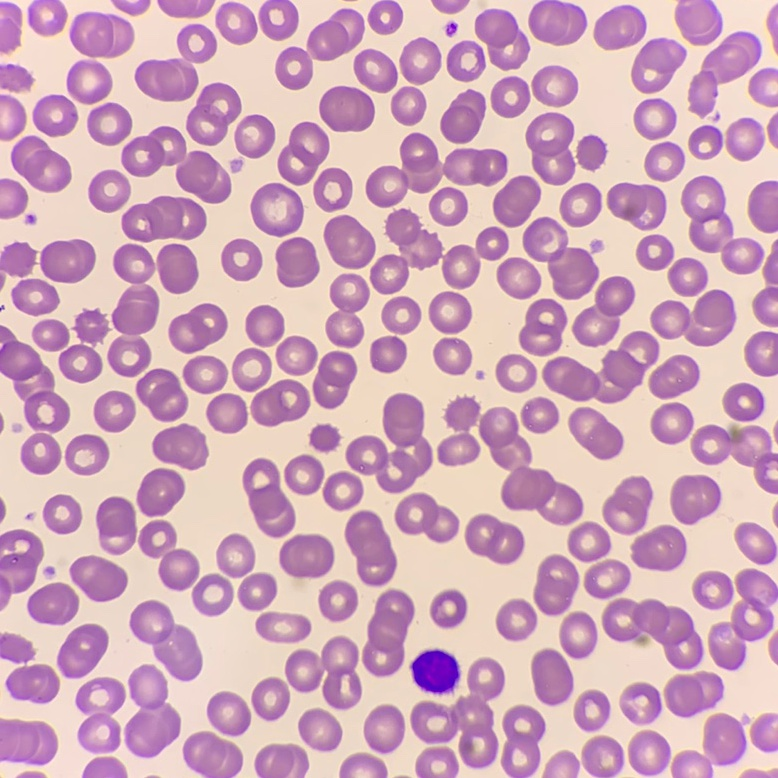RBC: (479, 407, 582, 524), (366, 133, 506, 206), (411, 658, 504, 767), (346, 393, 432, 492), (122, 126, 230, 202), (543, 331, 658, 402), (682, 176, 761, 273), (0, 327, 69, 431), (602, 599, 702, 669), (276, 9, 363, 89), (708, 569, 777, 669), (135, 24, 216, 101), (523, 217, 598, 299), (689, 32, 760, 115), (370, 210, 441, 293), (691, 425, 777, 493), (130, 601, 201, 680), (286, 637, 361, 708), (125, 665, 180, 756), (651, 290, 734, 345), (108, 285, 158, 376), (672, 714, 744, 777), (363, 589, 413, 675), (573, 277, 633, 346), (139, 520, 198, 589), (243, 459, 294, 536), (443, 227, 507, 288), (345, 510, 396, 585), (122, 196, 206, 241), (76, 678, 124, 751), (526, 113, 574, 184), (59, 311, 107, 382), (187, 83, 240, 145), (11, 136, 70, 191), (0, 530, 42, 606), (475, 9, 528, 69), (278, 122, 328, 184), (326, 274, 368, 347), (395, 493, 458, 541), (502, 705, 544, 777), (632, 38, 685, 92), (465, 514, 523, 563), (70, 12, 133, 57), (169, 304, 226, 352), (569, 407, 622, 458), (603, 477, 651, 533), (607, 183, 665, 229), (183, 732, 242, 777), (251, 183, 302, 235), (324, 215, 374, 268), (57, 624, 107, 677), (534, 555, 578, 615), (251, 380, 309, 425), (137, 369, 187, 421), (520, 299, 566, 355), (529, 0, 586, 45), (664, 672, 722, 716), (71, 556, 127, 601), (0, 719, 57, 763), (313, 351, 356, 408), (320, 86, 374, 131), (671, 475, 720, 523), (493, 176, 540, 226), (633, 525, 685, 570), (280, 534, 333, 578), (153, 425, 207, 468), (594, 5, 646, 49), (441, 91, 485, 143), (41, 240, 94, 282), (137, 468, 184, 515), (532, 649, 572, 704), (97, 497, 136, 553), (649, 355, 698, 398), (675, 0, 721, 45), (28, 583, 78, 624), (276, 238, 318, 286), (411, 649, 459, 691), (7, 664, 59, 702), (157, 244, 197, 292), (67, 60, 111, 103), (364, 705, 404, 752), (207, 692, 250, 735), (354, 50, 397, 92), (88, 103, 131, 145), (629, 731, 670, 775), (400, 38, 440, 83), (532, 66, 577, 106), (560, 183, 601, 226), (33, 95, 77, 135), (429, 292, 471, 333), (299, 709, 341, 750), (497, 258, 540, 298), (255, 744, 307, 777), (584, 560, 629, 598), (735, 523, 776, 564), (560, 612, 596, 658), (216, 2, 256, 43), (634, 99, 675, 139), (89, 170, 129, 211), (651, 403, 692, 443), (582, 736, 622, 777), (235, 115, 274, 157), (66, 435, 108, 474), (568, 522, 610, 561), (12, 279, 58, 314), (94, 391, 134, 431), (620, 683, 660, 723), (222, 239, 261, 280), (193, 574, 232, 615), (497, 599, 536, 640), (183, 356, 226, 393), (217, 534, 254, 577), (256, 612, 310, 641), (114, 244, 154, 283), (21, 433, 60, 473), (314, 168, 351, 210), (233, 349, 270, 391), (252, 678, 289, 720), (259, 0, 298, 39), (491, 77, 529, 117), (207, 394, 247, 432), (645, 142, 684, 180), (285, 455, 323, 494), (319, 581, 357, 620), (246, 306, 283, 346), (723, 383, 763, 420), (748, 181, 777, 232), (43, 495, 81, 533), (447, 41, 484, 80), (277, 337, 316, 374), (323, 472, 362, 509), (693, 571, 732, 608), (496, 355, 536, 391), (727, 118, 761, 160), (668, 258, 706, 295), (238, 573, 276, 610), (0, 243, 35, 283), (574, 690, 609, 730), (745, 332, 777, 375), (430, 188, 467, 225), (382, 297, 420, 333), (434, 338, 471, 374), (370, 336, 406, 372), (29, 0, 66, 35), (431, 590, 466, 627), (438, 433, 478, 465), (416, 746, 457, 777), (391, 87, 425, 124), (521, 398, 558, 432), (637, 235, 673, 269), (340, 753, 386, 777), (0, 95, 25, 139), (369, 0, 402, 33), (689, 125, 722, 158), (749, 68, 777, 106), (446, 397, 478, 430), (0, 179, 27, 218), (0, 2, 21, 52), (33, 320, 68, 350), (753, 286, 777, 326), (158, 0, 213, 17), (577, 136, 605, 169), (543, 751, 578, 777), (0, 634, 33, 661), (751, 714, 777, 748), (83, 757, 126, 777), (0, 65, 31, 91), (310, 424, 338, 451), (764, 243, 777, 284), (114, 0, 149, 14), (433, 0, 467, 13), (767, 6, 777, 46), (768, 116, 777, 145), (769, 635, 777, 660), (744, 770, 766, 777), (22, 772, 42, 777), (231, 161, 240, 170), (592, 241, 601, 249), (0, 503, 5, 516), (769, 769, 777, 777), (773, 509, 777, 520)
